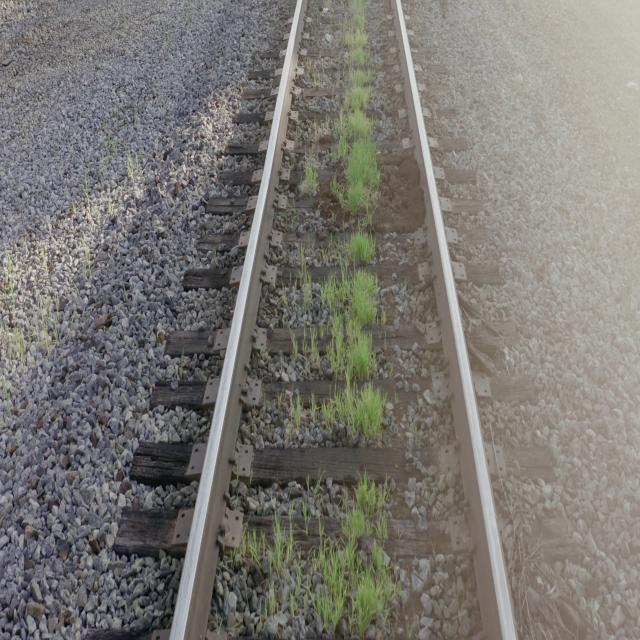Plant: (285, 0, 389, 447), (301, 478, 396, 638), (245, 524, 301, 613), (354, 567, 380, 636), (300, 149, 321, 196)
